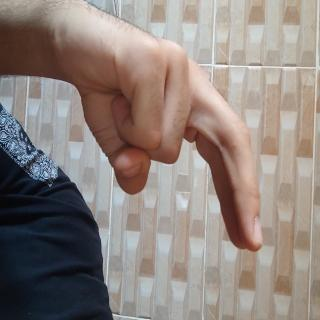ZAY: (0, 72, 204, 320)
